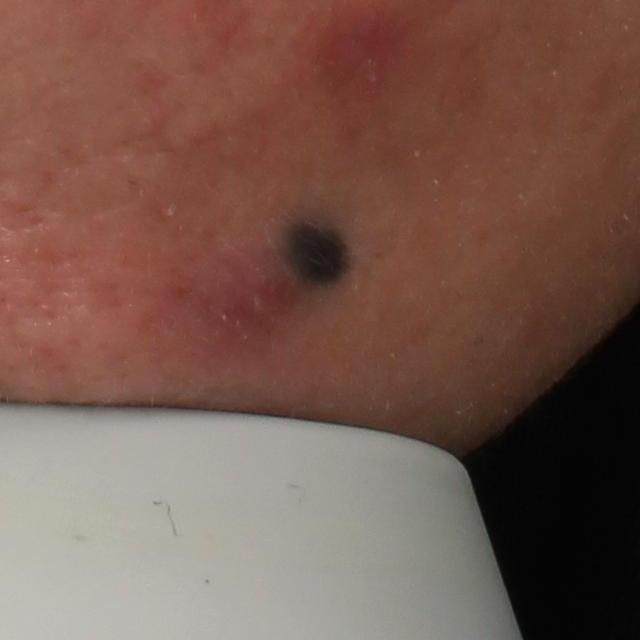nevus: (274, 213, 359, 291)
